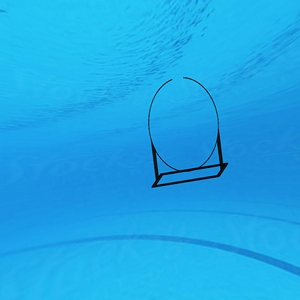circle: (143, 72, 235, 193)
